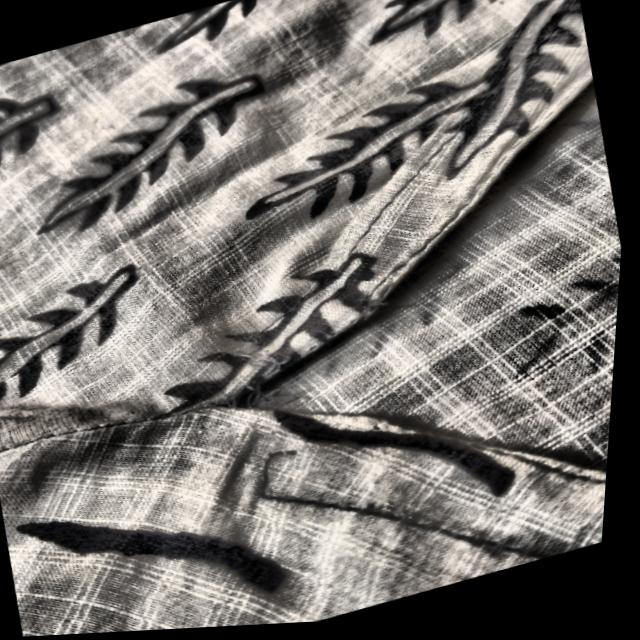Stitch: (167, 273, 421, 440), (201, 407, 373, 553)
